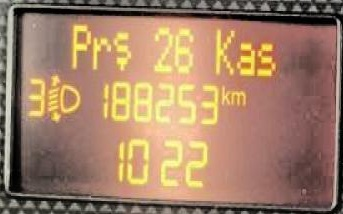0: (124, 135, 148, 184)
1: (116, 137, 125, 182), (99, 80, 108, 119)
2: (183, 137, 207, 187), (158, 137, 181, 186), (152, 26, 172, 72), (153, 81, 173, 122)
3: (198, 82, 217, 124), (26, 76, 45, 116)
5: (176, 82, 195, 124)
6: (172, 26, 192, 72)
8: (131, 79, 152, 120), (110, 79, 130, 120)
X: (70, 21, 91, 71), (213, 27, 234, 74), (111, 29, 130, 69), (255, 41, 275, 76), (235, 41, 255, 76), (90, 34, 110, 69), (229, 89, 244, 105), (220, 82, 230, 104)
